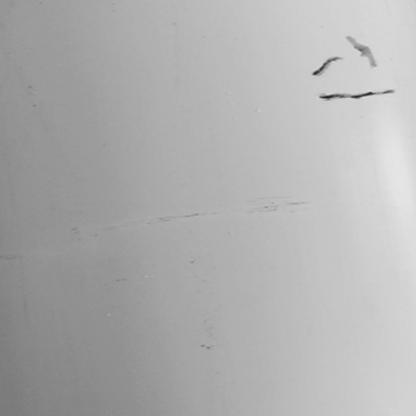fengxi: (318, 88, 395, 102), (346, 34, 376, 67), (312, 55, 342, 79)
